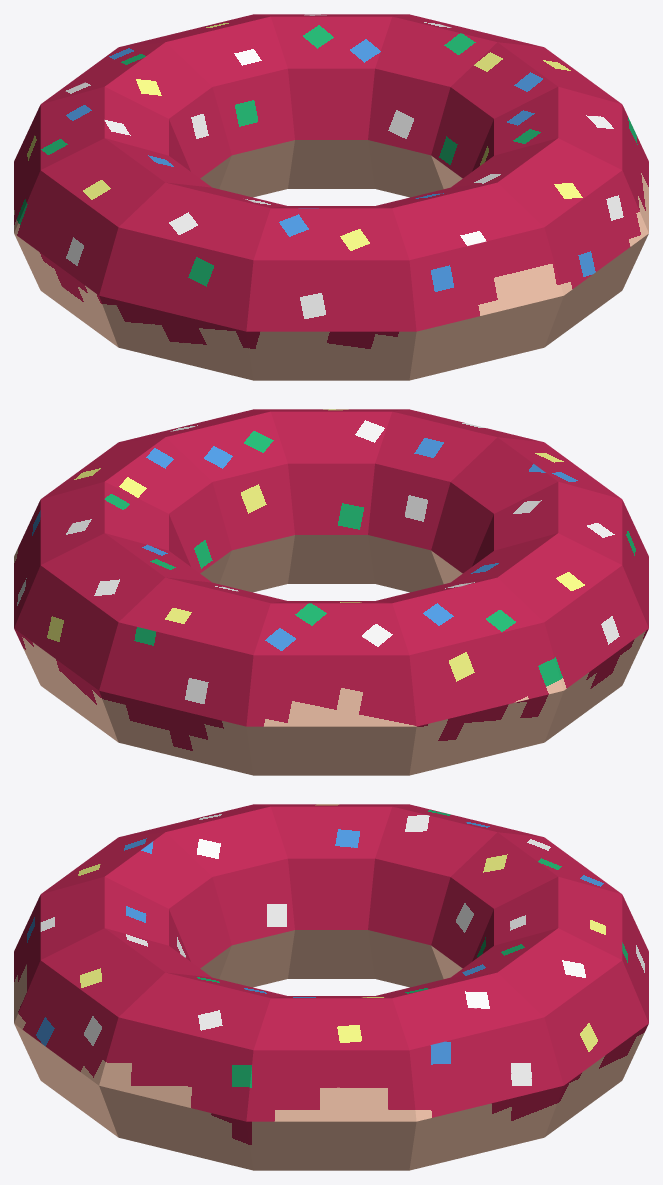
File: Boia.gltf
3 renders of one model, top to bottom at view 1: azimuth 30°, elevation 25°; view 2: azimuth 150°, elevation 25°; view 3: azimuth 270°, elevation 25°, orthographic.
Visible parts, largest first — view 1: torus; view 2: torus; view 3: torus.
Boxes of the visible parts, bbox=[...] form: torus: bbox=[14, 14, 648, 380]; torus: bbox=[14, 409, 648, 775]; torus: bbox=[14, 804, 648, 1170].
Bounding box in the file's own units: 0.4375 × 0.1294 × 0.4375.
Materials: 1 (1 with a texture image).
